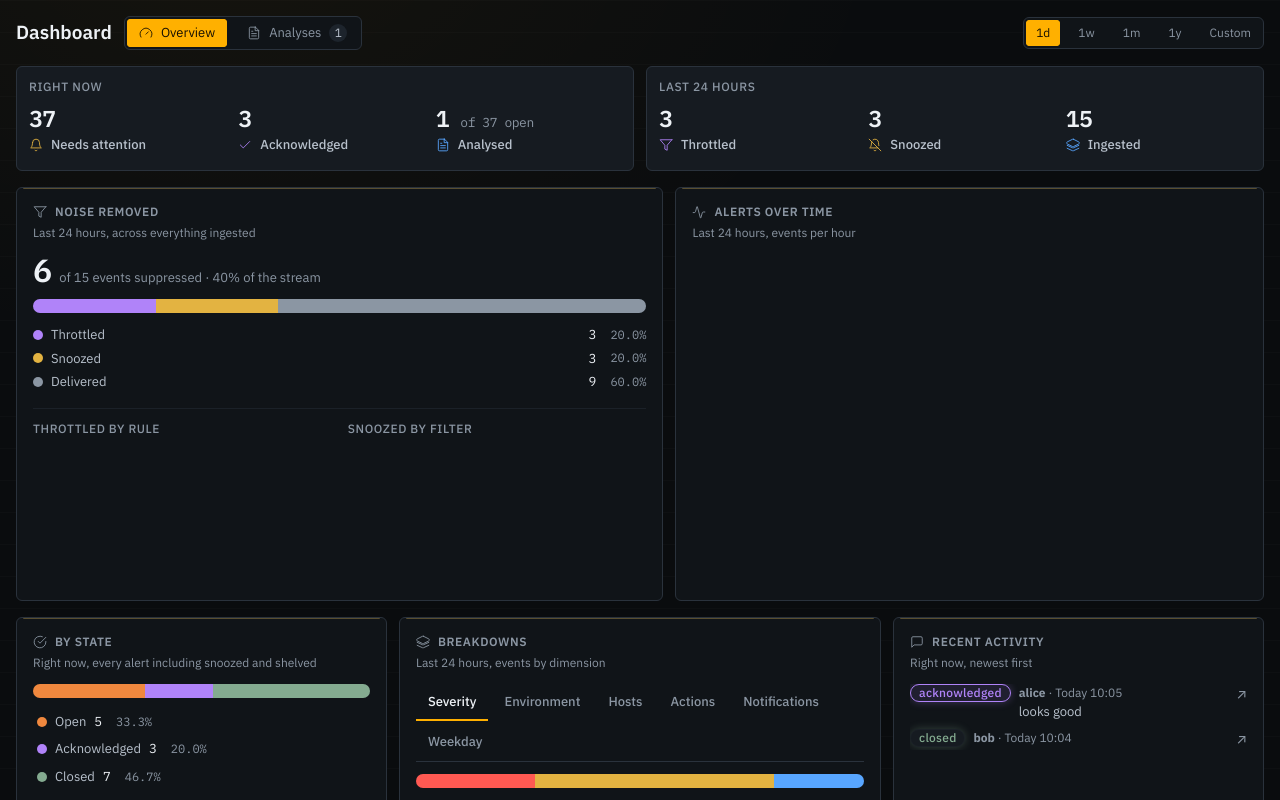
Test: DashboardPage › the Analyses view › switches to the analysed alerts from the title row, and hides the time picker there
Check: the heading "Noise removed" is shown, box [33, 204, 159, 219]
Click the button "Analyses 1" at (297, 33), box [235, 19, 359, 46]
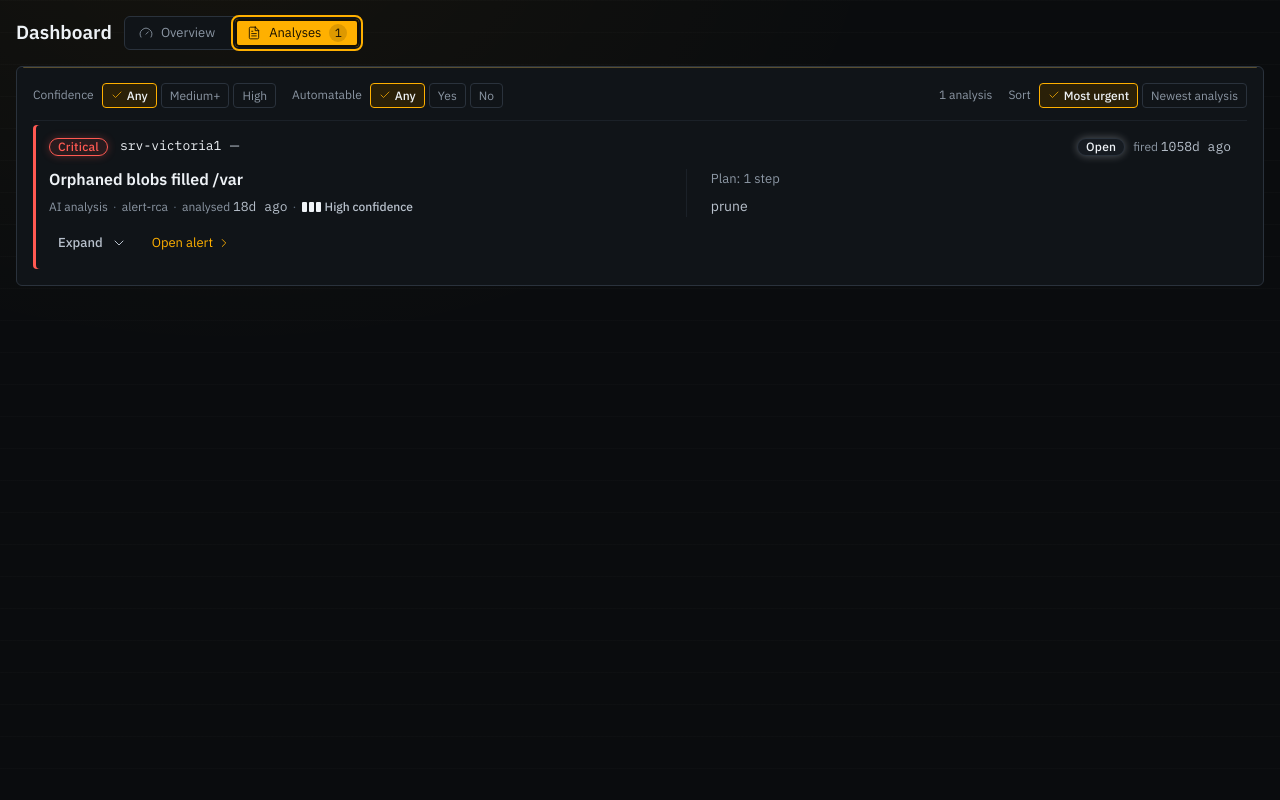
Check: the text "Orphaned blobs filled /var" is shown, box [49, 169, 243, 189]
Check: the button "of 37 open" is gone
Check: the button "1d" is gone
